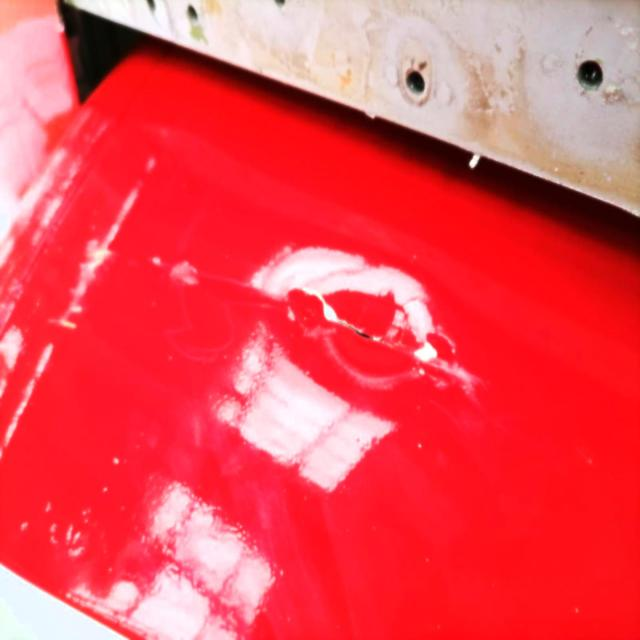Rupture: (222, 260, 490, 400)
